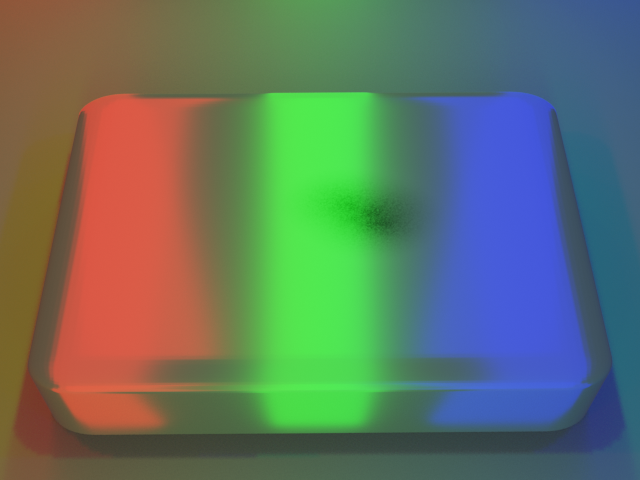stain: (259, 151, 488, 278)
